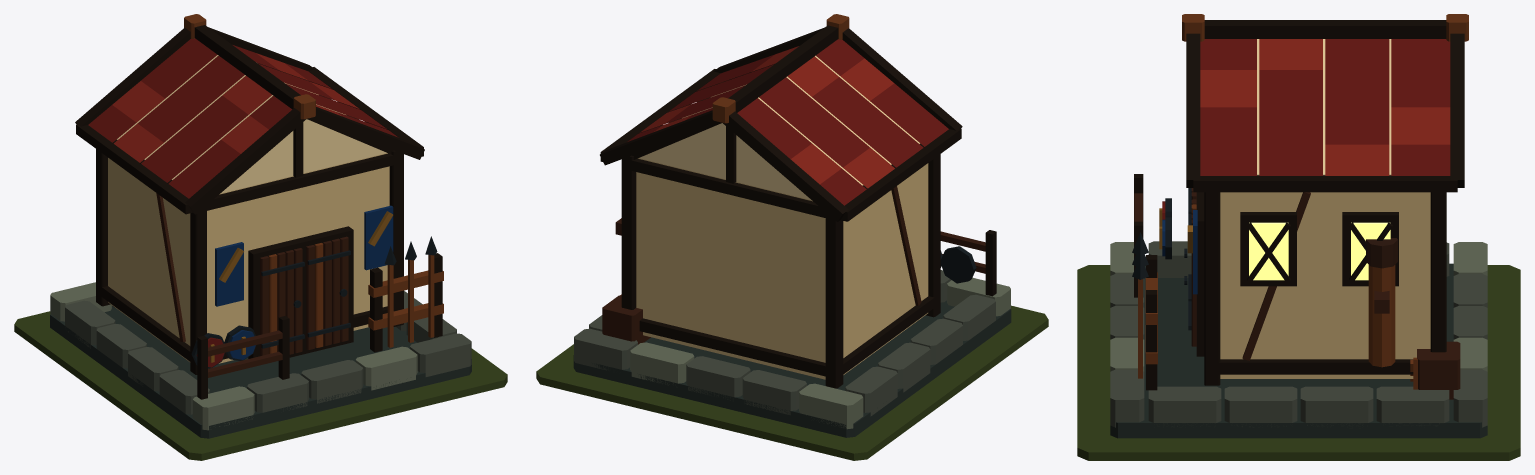
The model's file is barracks_t3.glb.
3 renders of one model, left to right at view 1: azimuth 30°, elevation 25°; view 2: azimuth 150°, elevation 25°; view 3: azimuth 270°, elevation 25°, orthographic. The views are drawn at different scales.
Visible parts, largest first — view 1: MMR | barracks | T03 Architecture.001, MMR | barracks | Tier 03 Ground.001; view 2: MMR | barracks | T03 Architecture.001, MMR | barracks | Tier 03 Ground.001; view 3: MMR | barracks | T03 Architecture.001, MMR | barracks | Tier 03 Ground.001.
Part boxes in pixels (x1,y1,x2,y2): MMR | barracks | T03 Architecture.001: [50, 14, 471, 438]; MMR | barracks | Tier 03 Ground.001: [14, 311, 507, 460]; MMR | barracks | T03 Architecture.001: [573, 14, 1011, 437]; MMR | barracks | Tier 03 Ground.001: [536, 305, 1048, 460]; MMR | barracks | T03 Architecture.001: [1110, 14, 1487, 438]; MMR | barracks | Tier 03 Ground.001: [1077, 265, 1520, 460].
Size of the model in its own units: 2.35 by 2.04 by 2.35.
Materials: 2 (1 with a texture image).
